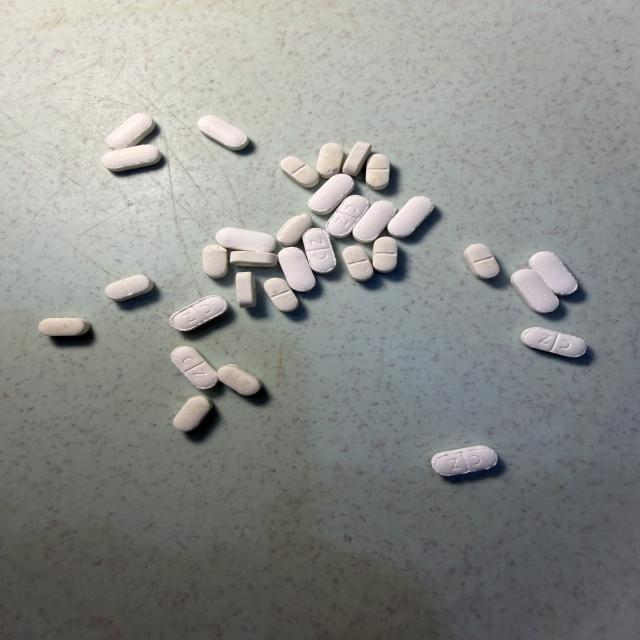pill: (511, 269, 559, 313), (529, 252, 577, 295), (170, 296, 228, 331), (171, 346, 217, 389), (521, 327, 586, 357), (432, 446, 497, 476), (388, 197, 434, 238), (308, 174, 354, 214), (326, 195, 369, 237), (198, 115, 249, 150), (107, 113, 155, 149), (353, 201, 395, 242), (278, 247, 315, 292), (102, 145, 161, 172), (303, 228, 336, 273), (174, 396, 213, 431), (216, 228, 275, 251), (218, 364, 261, 395), (105, 275, 153, 301), (464, 244, 499, 279), (264, 278, 299, 312), (281, 156, 319, 187), (277, 213, 312, 246), (343, 246, 373, 281), (343, 142, 371, 176), (39, 318, 90, 336), (317, 143, 343, 178), (366, 154, 390, 190), (373, 237, 397, 273), (203, 245, 228, 278), (230, 251, 277, 267), (236, 272, 256, 308)
